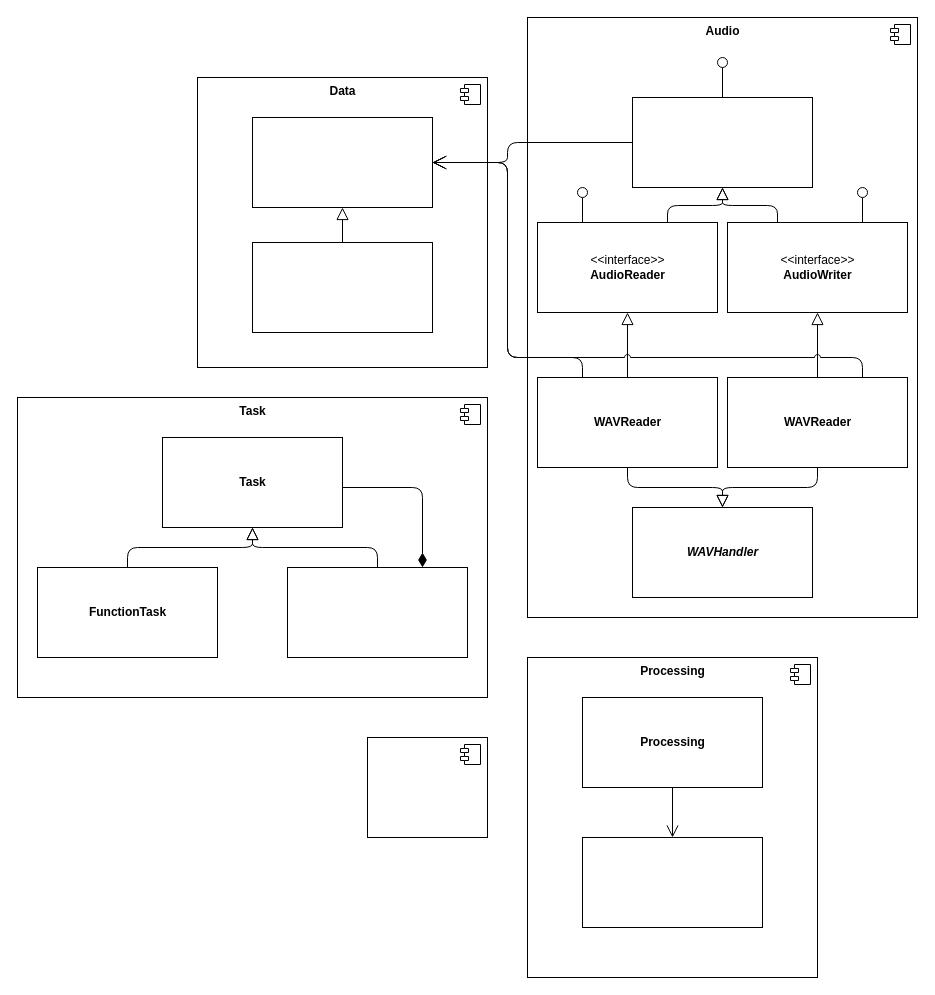
Image size: 935x995. Some labels were removed from this diagram. The shapes that lost their labels are listed below. From the top down, each one's centre as x and y in pixels, then its label:
At point (342, 162): "Buffer".
At point (722, 142): "<<interface>> AudioHandler".
At point (342, 287): "BinaryTree".
At point (377, 612): "TaskPool".
At point (427, 787): "Model".
At point (672, 882): "Spectrogram".
